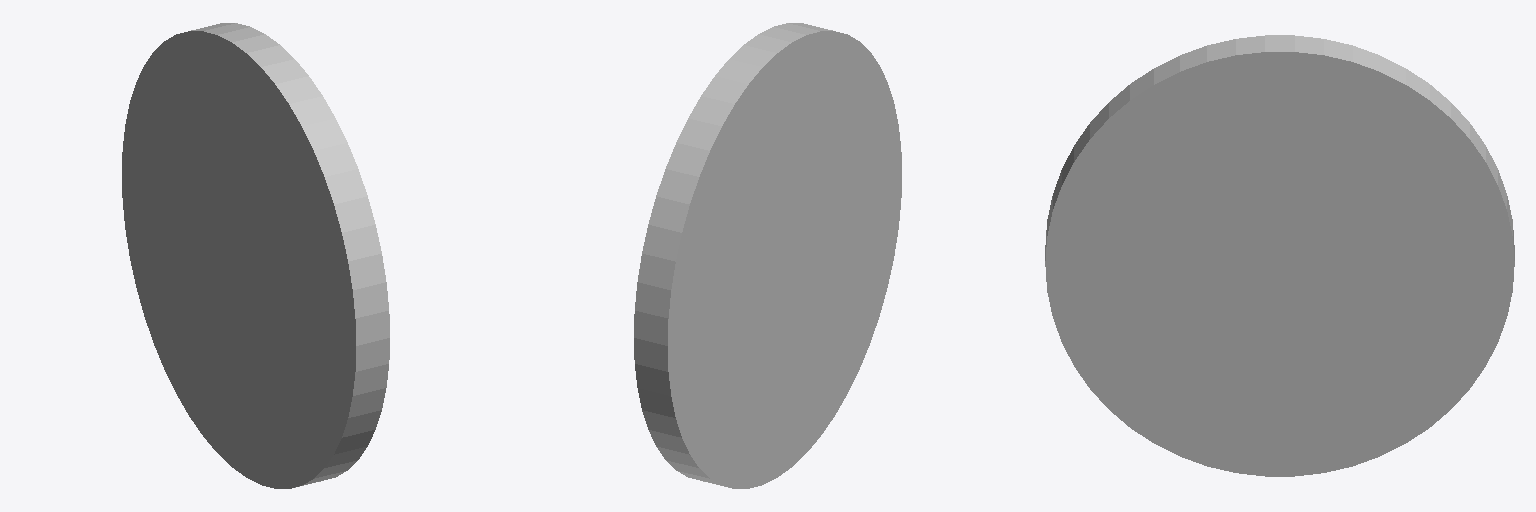
The model's file is lap.obj.
3 renders of one model, left to right at view 1: azimuth 30°, elevation 25°; view 2: azimuth 150°, elevation 25°; view 3: azimuth 270°, elevation 25°, orthographic.
Parts seen in each view (by area): view 1: Cylinder; view 2: Cylinder; view 3: Cylinder.
Boxes of the visible parts, <box> form: Cylinder: <box>122,23,389,488</box>; Cylinder: <box>634,23,901,488</box>; Cylinder: <box>1045,35,1514,476</box>.
Bounding box in the file's own units: 0.31 × 3.71 × 3.72.